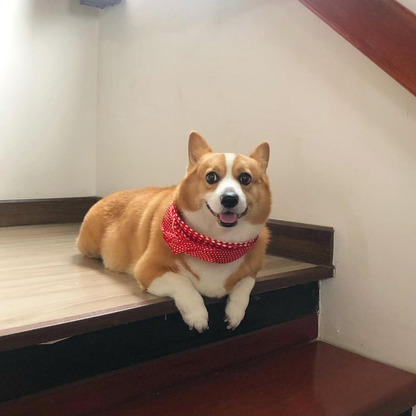Corgi: (57, 134, 304, 321)
